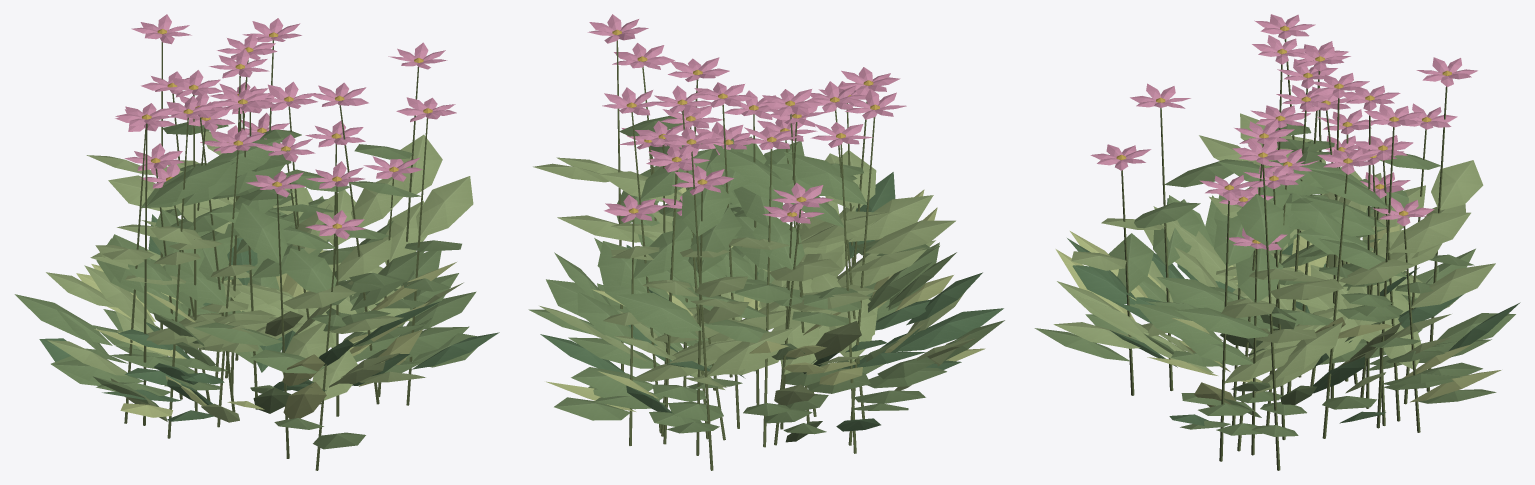
The model's file is Flowers3.fbx.
3 renders of one model, left to right at view 1: azimuth 30°, elevation 25°; view 2: azimuth 150°, elevation 25°; view 3: azimuth 270°, elevation 25°, orthographic. The views are drawn at different scales.
Parts seen in each view (by area): view 1: Flowers3_LOD0; view 2: Flowers3_LOD0; view 3: Flowers3_LOD0.
Part boxes in pixels (box(x1,y1,x2,y2)): Flowers3_LOD0: box(14, 14, 499, 470); Flowers3_LOD0: box(528, 14, 1004, 470); Flowers3_LOD0: box(1034, 14, 1520, 470).
Size of what is drawn, in the model's own units: 113 by 83.05 by 112.
1 material, 1 textured.
